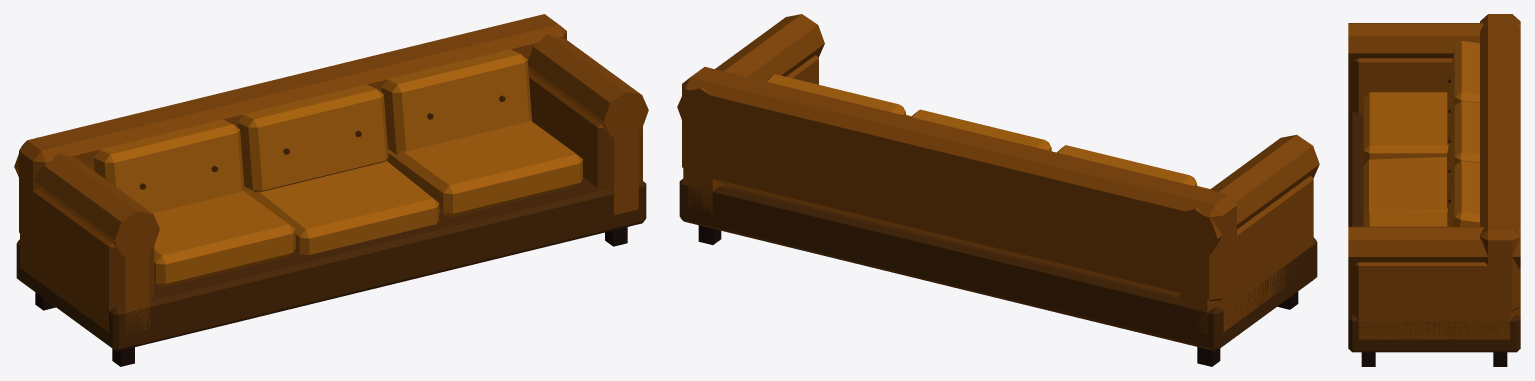
The model's file is SM_Hide_Couch_3Seat_Mustard.glb.
3 renders of one model, left to right at view 1: azimuth 30°, elevation 25°; view 2: azimuth 150°, elevation 25°; view 3: azimuth 270°, elevation 25°, orthographic. The views are drawn at different scales.
Visible parts, largest first — view 1: SM_Hide_Couch_3Seat_Mustard-col; view 2: SM_Hide_Couch_3Seat_Mustard-col; view 3: SM_Hide_Couch_3Seat_Mustard-col.
Boxes of the visible parts, x1,y1,x2,y2 form: SM_Hide_Couch_3Seat_Mustard-col: (14, 14, 648, 366); SM_Hide_Couch_3Seat_Mustard-col: (677, 14, 1319, 366); SM_Hide_Couch_3Seat_Mustard-col: (1348, 14, 1520, 366).
Size of the model in its own units: 2.6 by 0.76 by 0.85.
